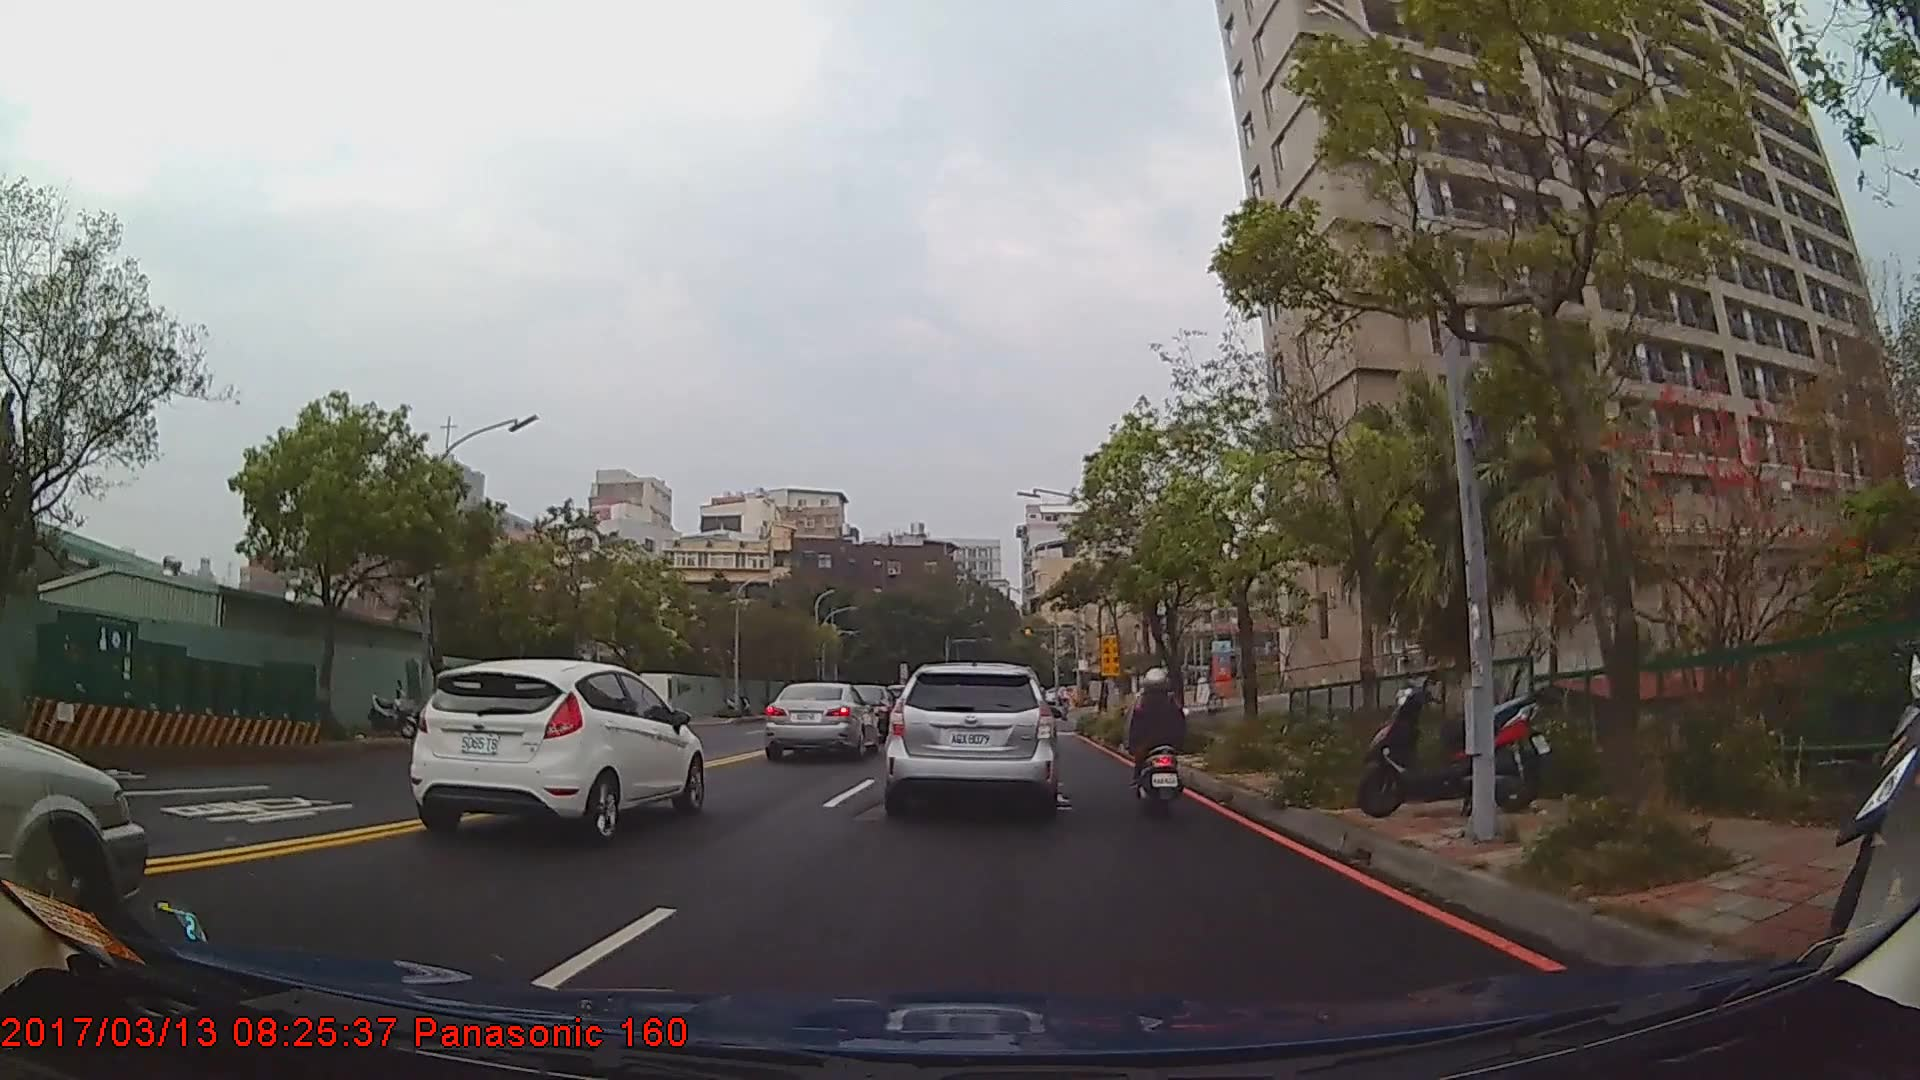rider: (1127, 668, 1188, 819)
vehicle: (409, 657, 703, 842), (885, 661, 1055, 817), (760, 680, 880, 760)
